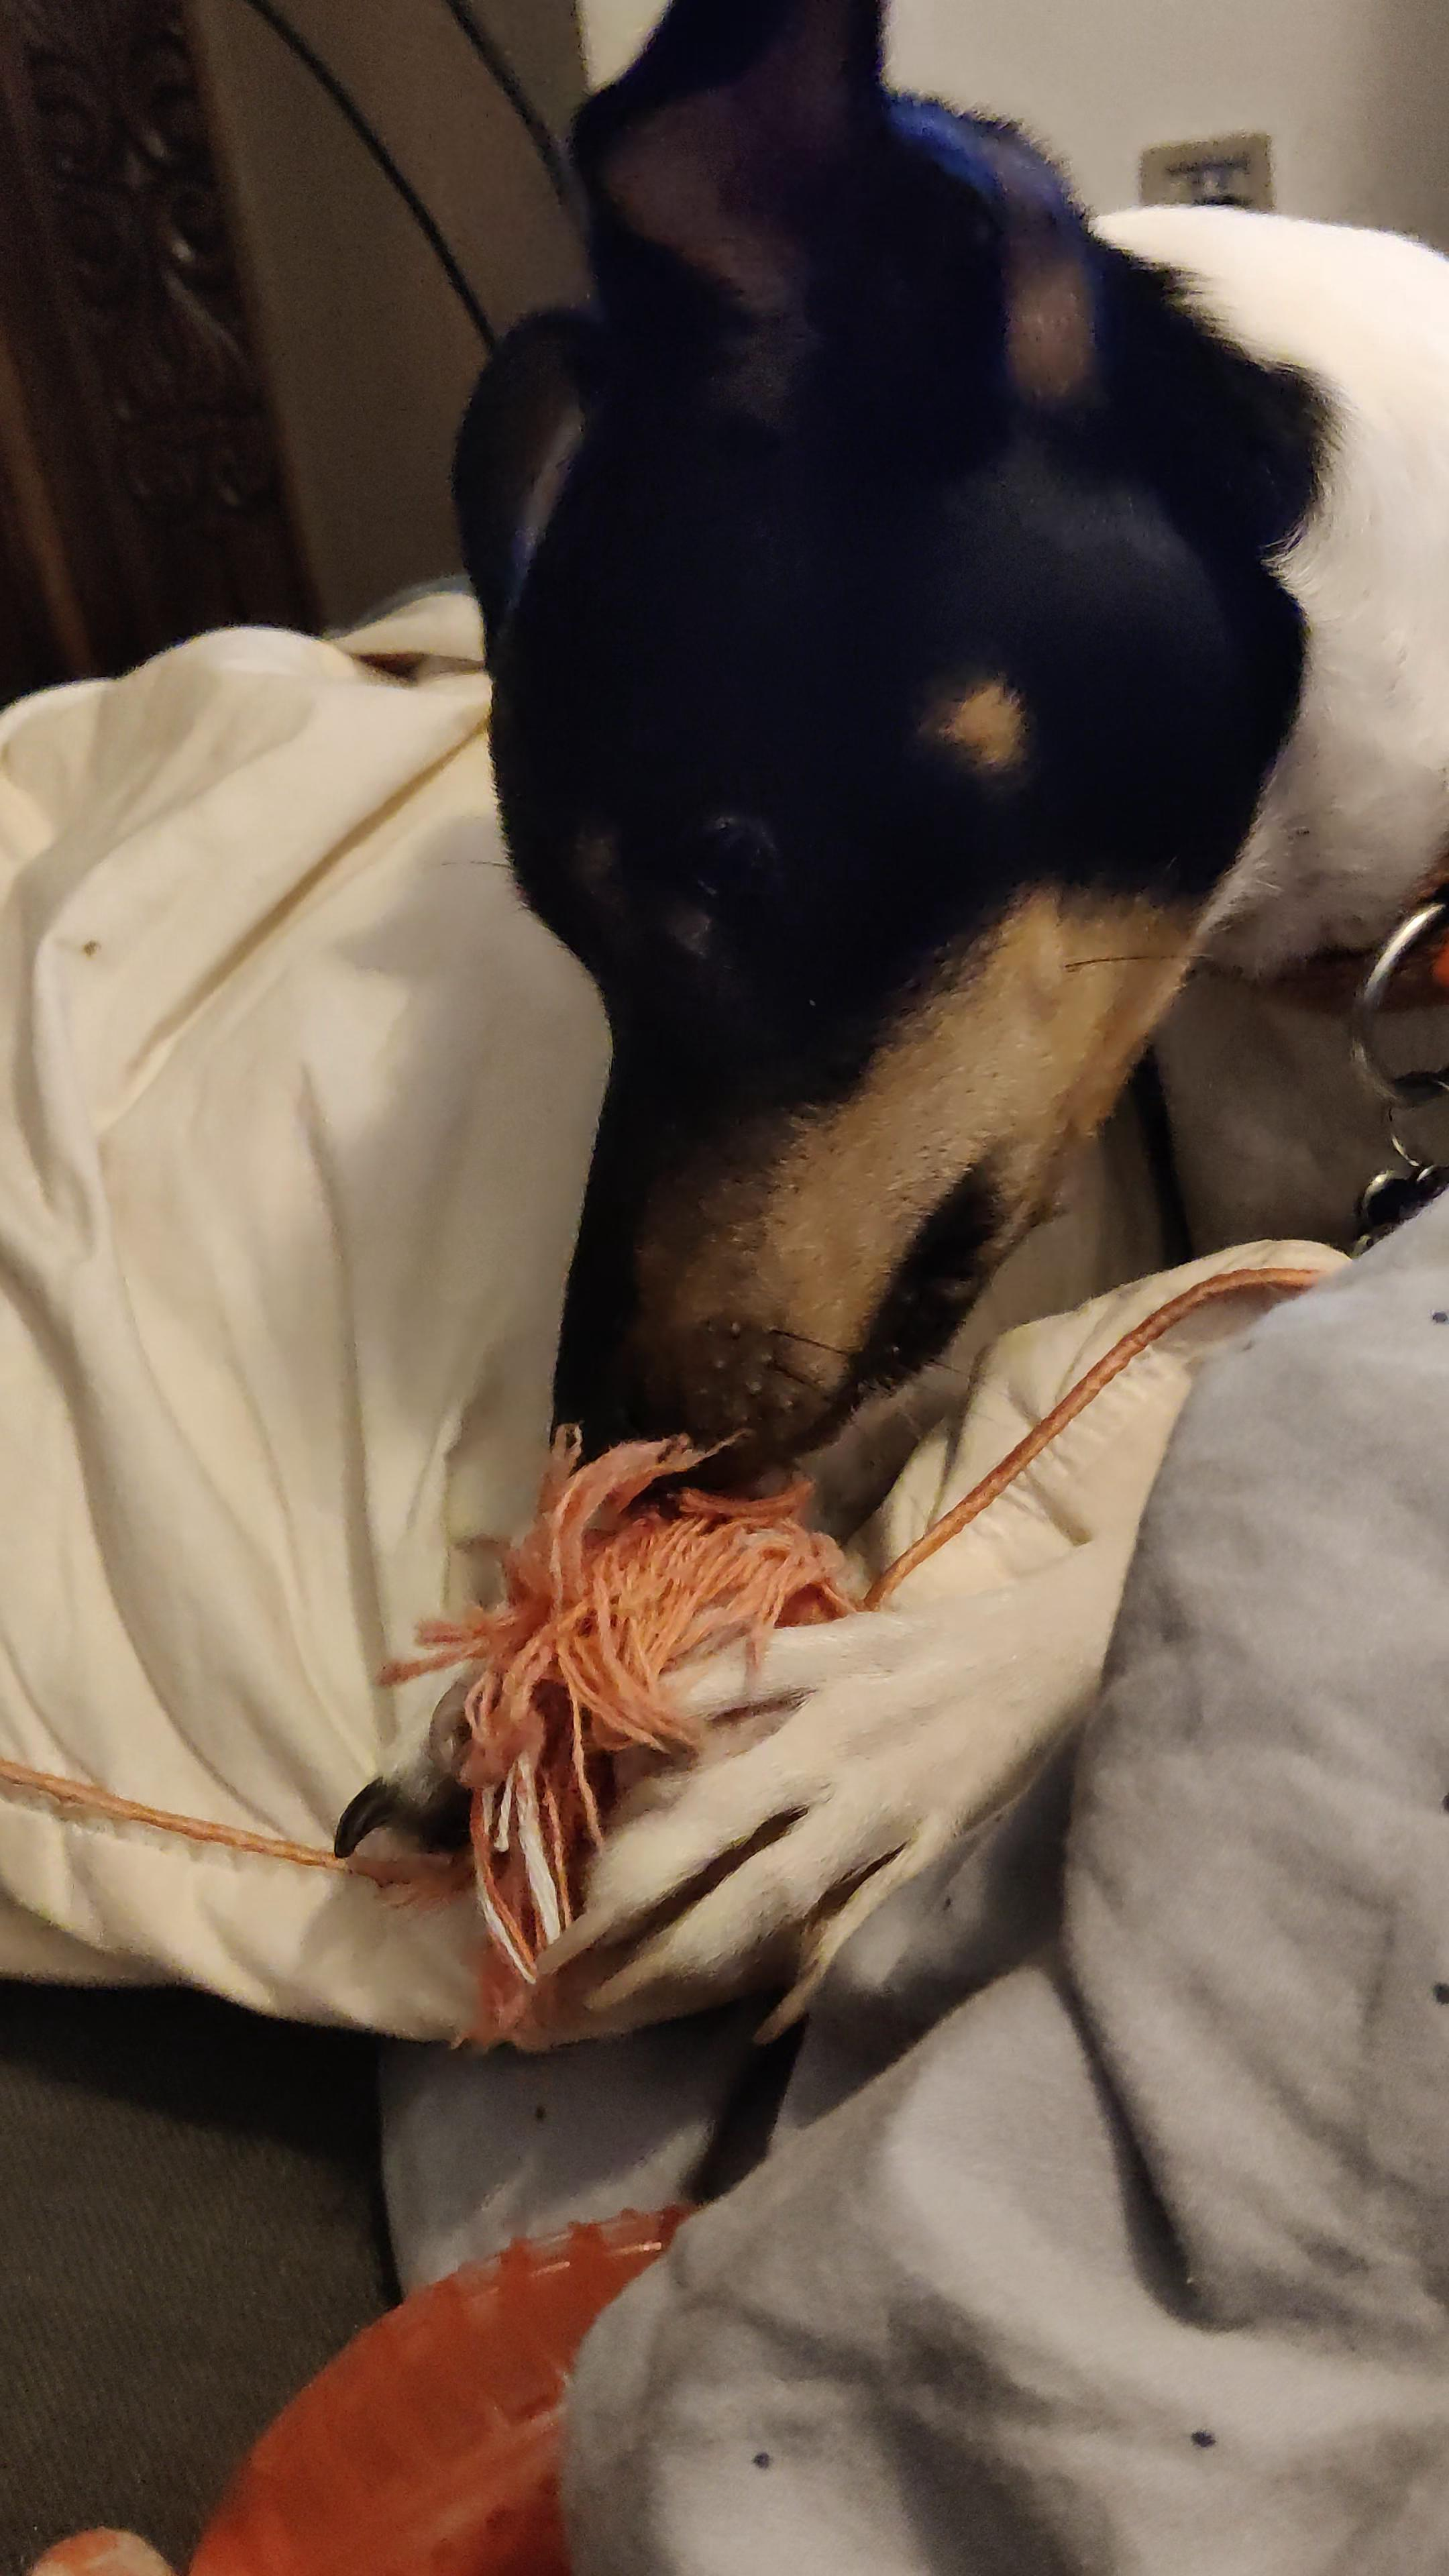Dog: (311, 0, 1449, 2059)
